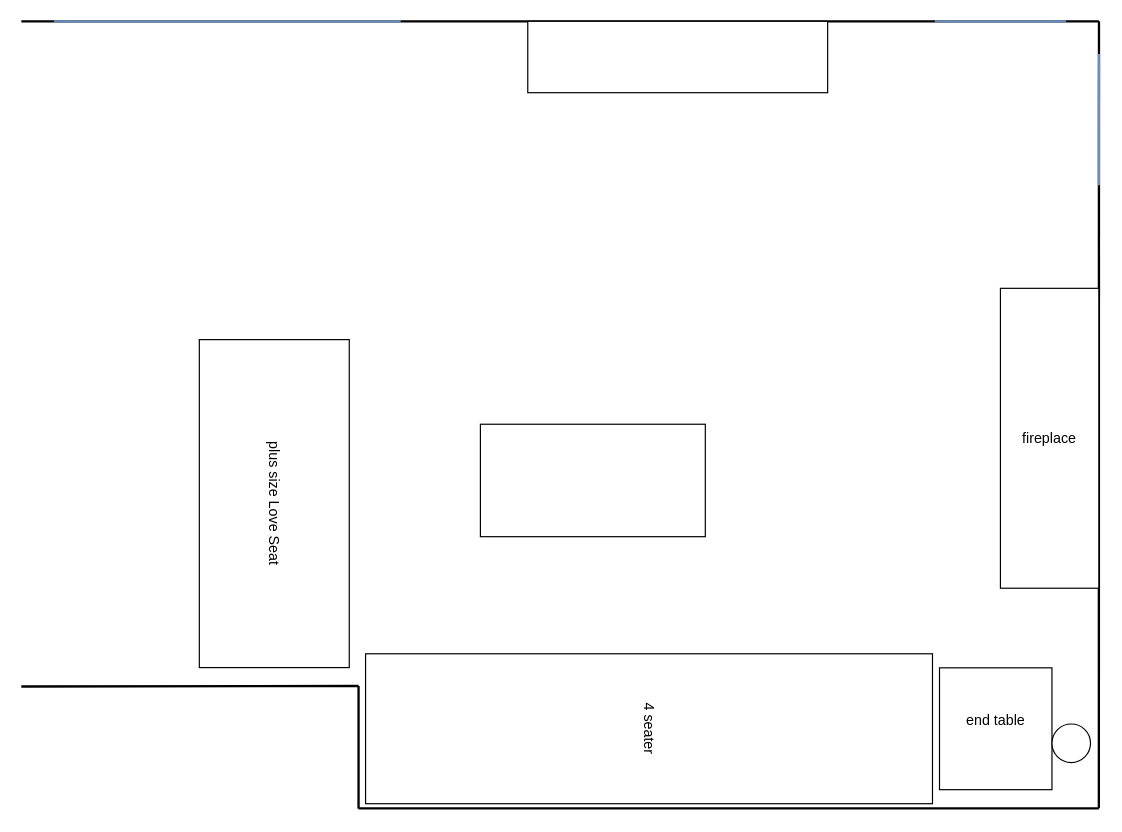
Some shapes in this 1122 by 832 pixel diagram are drawn without their labels. Each missing label, with the box of its shape:
coffee table: (479, 423, 705, 537)
TV: (527, 20, 828, 93)
